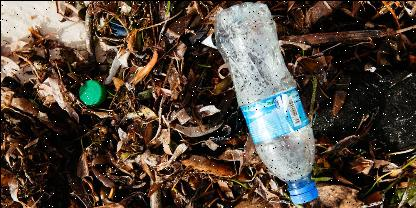Plastic Bottle: (210, 0, 317, 204)
